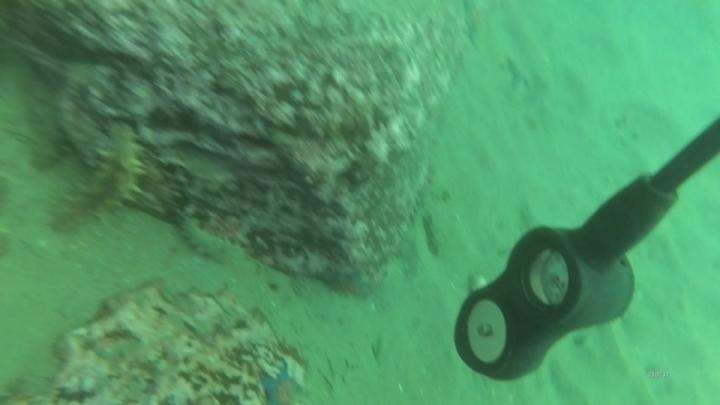holothurian: (46, 125, 151, 237), (5, 54, 74, 173)
starfish: (256, 360, 309, 404), (459, 0, 494, 51)
